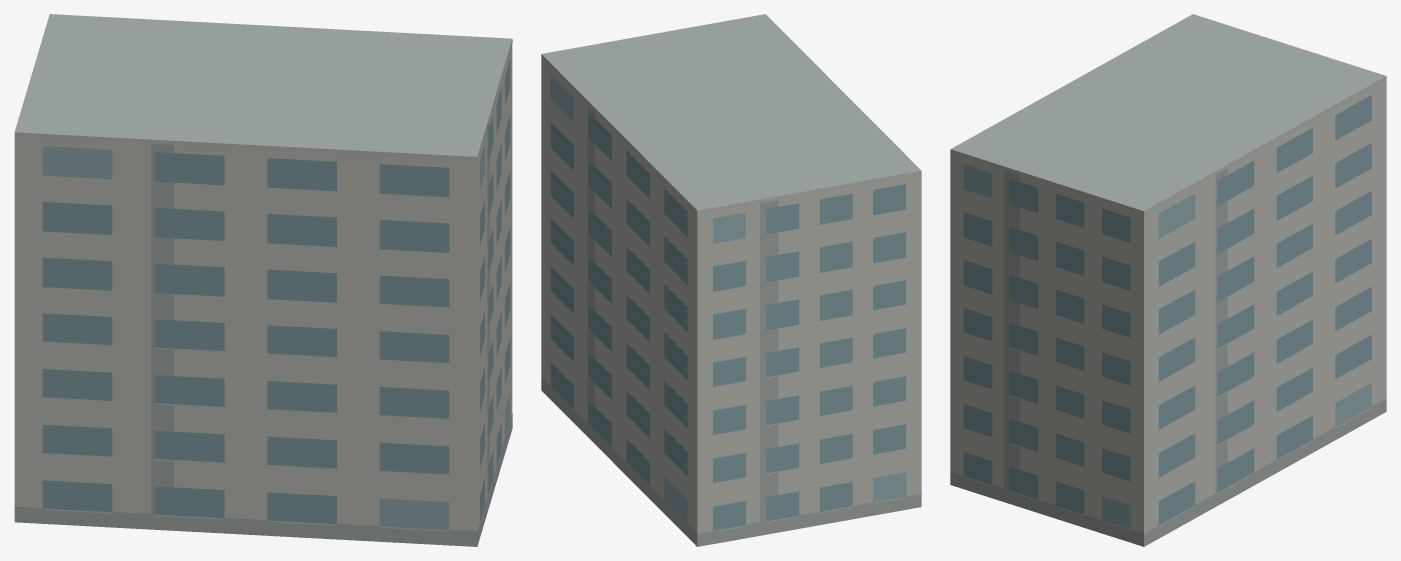
The model's file is survey-upis-32554107.glb.
The picture shows the model from 3 angles, left to right: view 1: azimuth 30°, elevation 25°; view 2: azimuth 150°, elevation 25°; view 3: azimuth 270°, elevation 25°; orthographic projection. The views are drawn at different scales.
Parts seen in each view (by area): view 1: survey-upis-32554107.tmp; view 2: survey-upis-32554107.tmp; view 3: survey-upis-32554107.tmp.
Boxes of the visible parts, x1,y1,x2,y2 form: survey-upis-32554107.tmp: (14, 14, 512, 546); survey-upis-32554107.tmp: (541, 14, 921, 546); survey-upis-32554107.tmp: (950, 14, 1386, 546).
Bounding box in the file's own units: 28.32 × 22.47 × 26.47.
